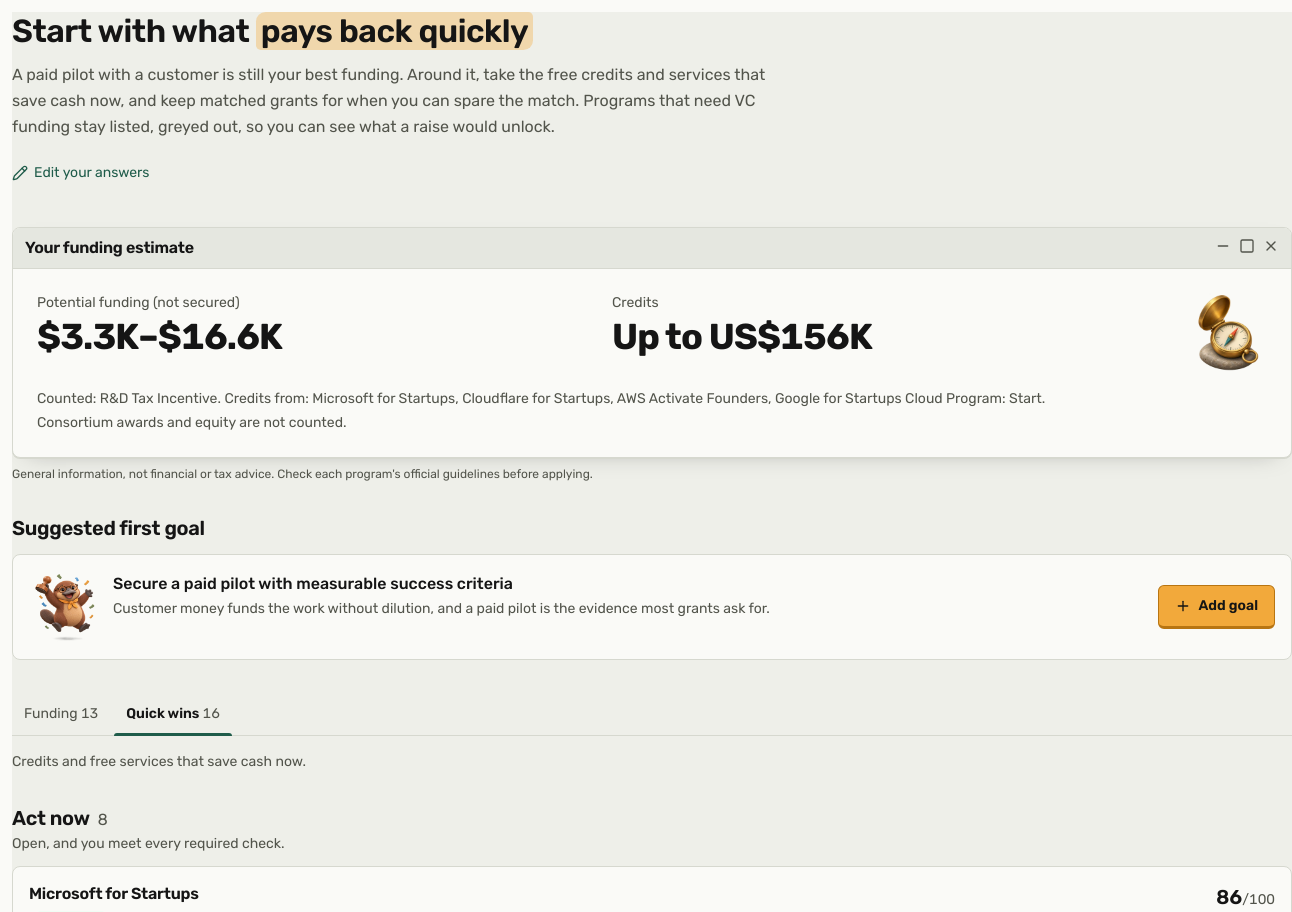
Test: Results page › offers the suggested first goal with the primary Add goal button, then a quiet added state
The image size is (1292, 912).
Click the button "Add goal" at {"x": 1216, "y": 607}, box [1158,585,1275,629]
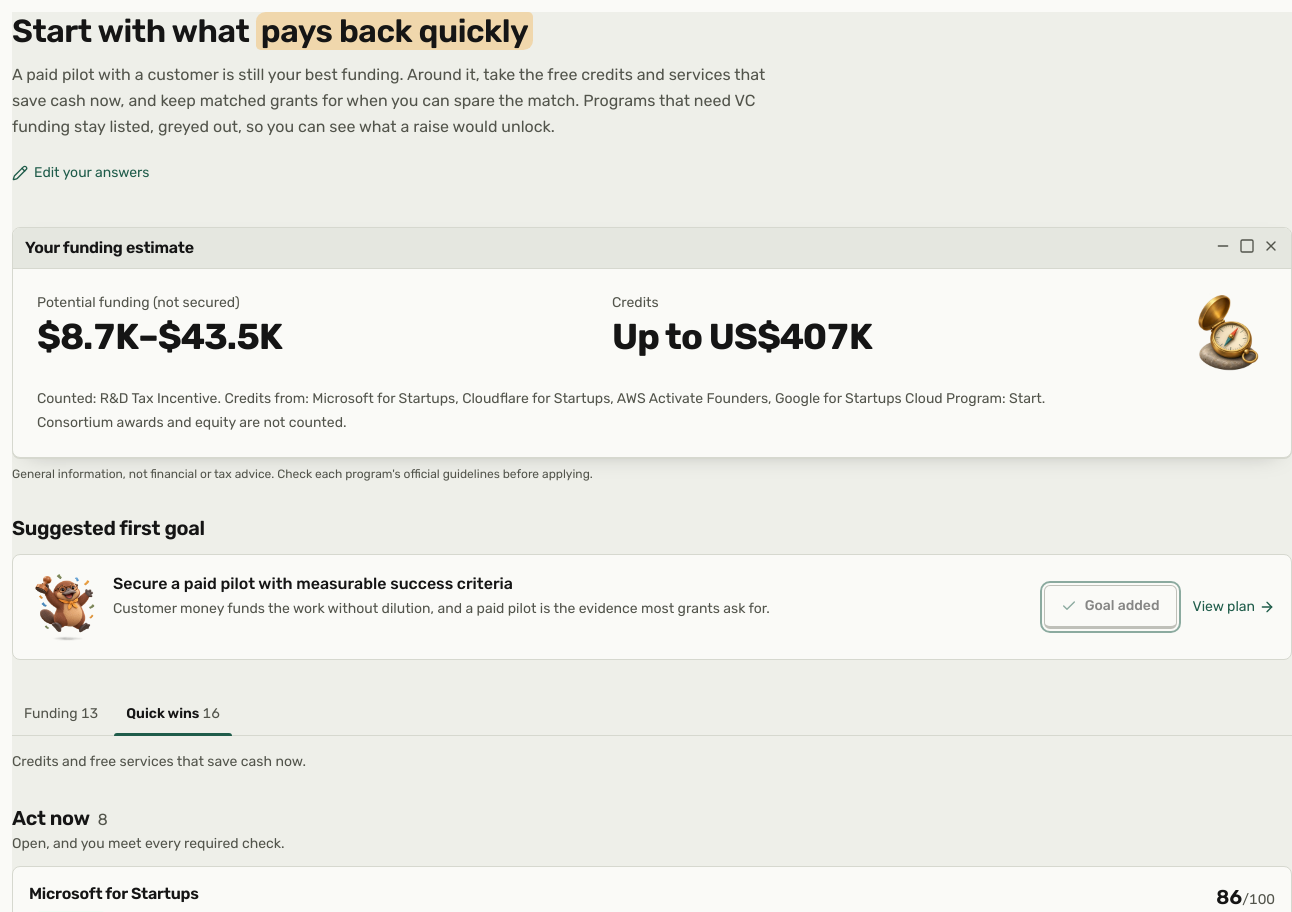
Result: the link "View plan" is shown at [1192,598,1275,615]
